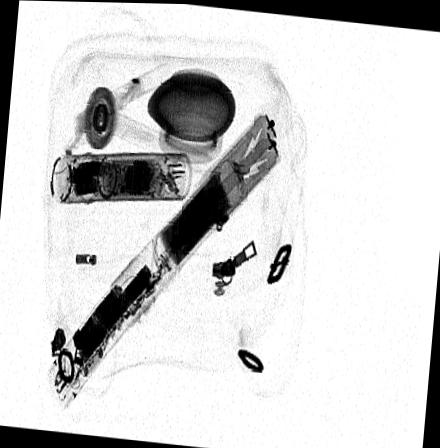Baton: (45, 108, 281, 410), (47, 151, 191, 204)
